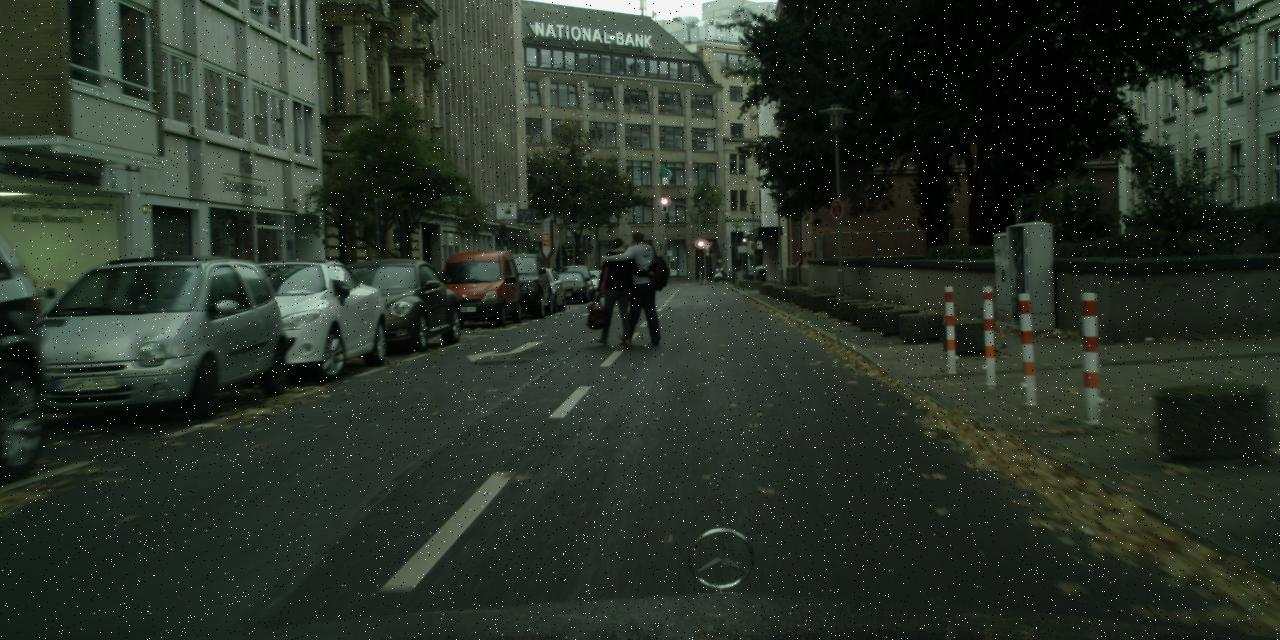ped: (616, 230, 662, 343), (593, 238, 638, 346)
